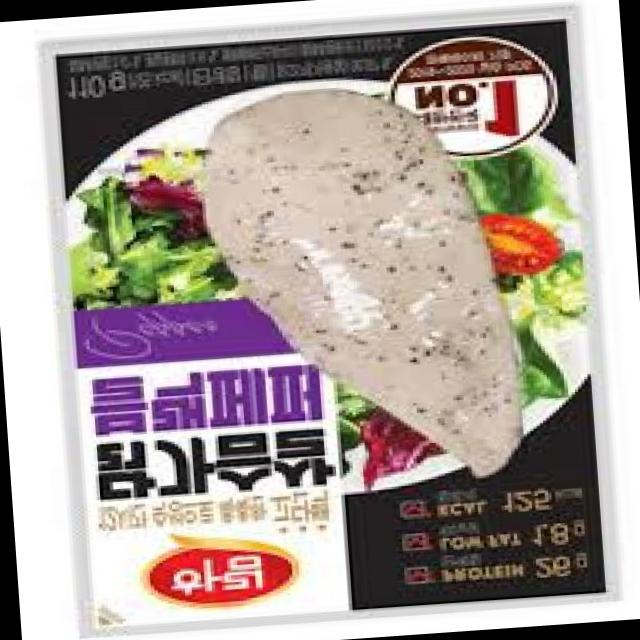chicken: (186, 74, 540, 506)
